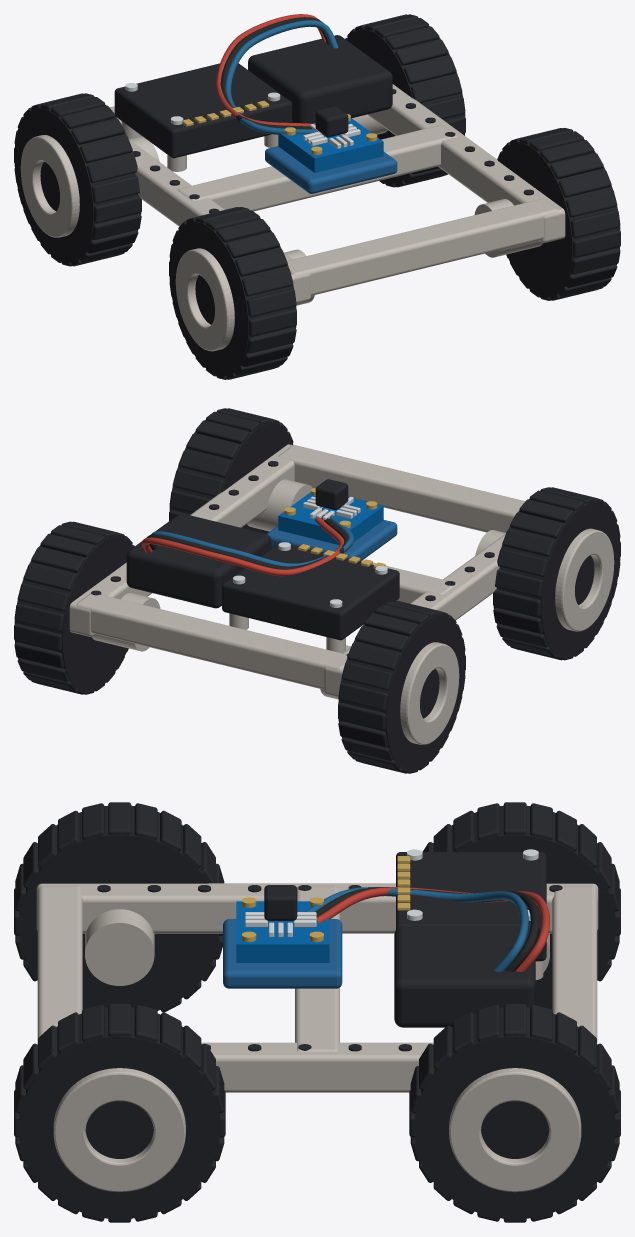
The model's file is anatomy-42.glb.
3 renders of one model, top to bottom at view 1: azimuth 30°, elevation 25°; view 2: azimuth 150°, elevation 25°; view 3: azimuth 270°, elevation 25°, orthographic. The views are drawn at different scales.
Parts seen in each view (by area): view 1: wheels, cross, computer, frame, battery, imu, wires, mount, drives, computer-standoffs; view 2: wheels, cross, computer, frame, battery, imu, wires, drives, mount, computer-standoffs; view 3: wheels, frame, cross, battery, computer, imu, wires, drives, mount, computer-standoffs.
Boxes of the visible parts, x1,y1,x2,y2 form: wheels: (14,14,620,379); cross: (109,106,558,295); computer: (114,63,292,158); frame: (129,84,565,303); battery: (248,35,392,123); imu: (278,106,383,172); wires: (216,14,338,134); mount: (265,146,397,193); drives: (129,114,543,305); computer-standoffs: (121,83,280,171); wheels: (14,408,620,773); cross: (76,445,524,689); computer: (222,542,399,640); frame: (69,444,505,697); battery: (126,513,271,608); imu: (278,479,383,544); wires: (142,511,354,576); drives: (91,479,505,699); mount: (267,520,397,561); computer-standoffs: (229,542,387,653); wheels: (14,802,620,1222); frame: (36,883,598,1092); cross: (37,886,597,1051); battery: (394,926,535,1027); computer: (396,852,546,961); imu: (236,885,329,962); wires: (305,887,549,971); drives: (85,909,549,985); mount: (223,919,342,988); computer-standoffs: (407,849,543,980).
Bounding box in the file's own units: 1.82 × 0.7909 × 1.93.
